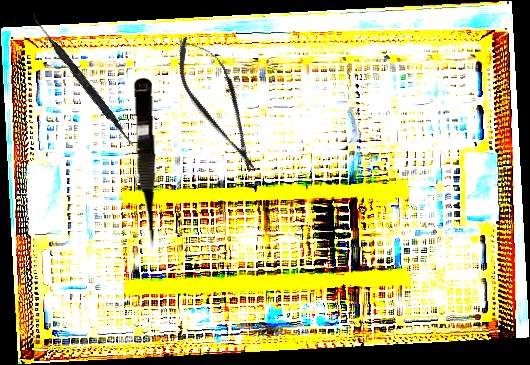Micro Scissor: (164, 27, 273, 181), (130, 77, 161, 250)
Spatula Surgical: (26, 12, 139, 148)
